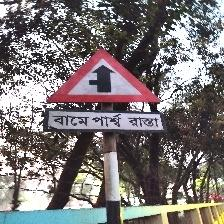Side-road-left: (44, 48, 166, 136)
